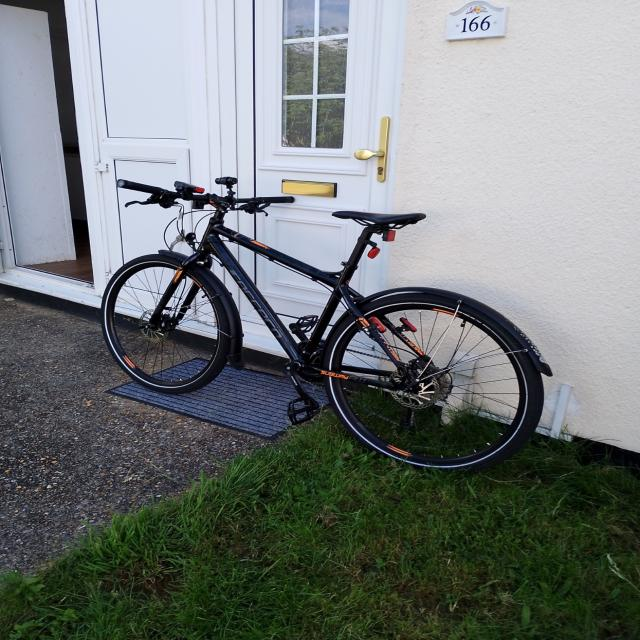bicycle: (100, 176, 552, 472)
